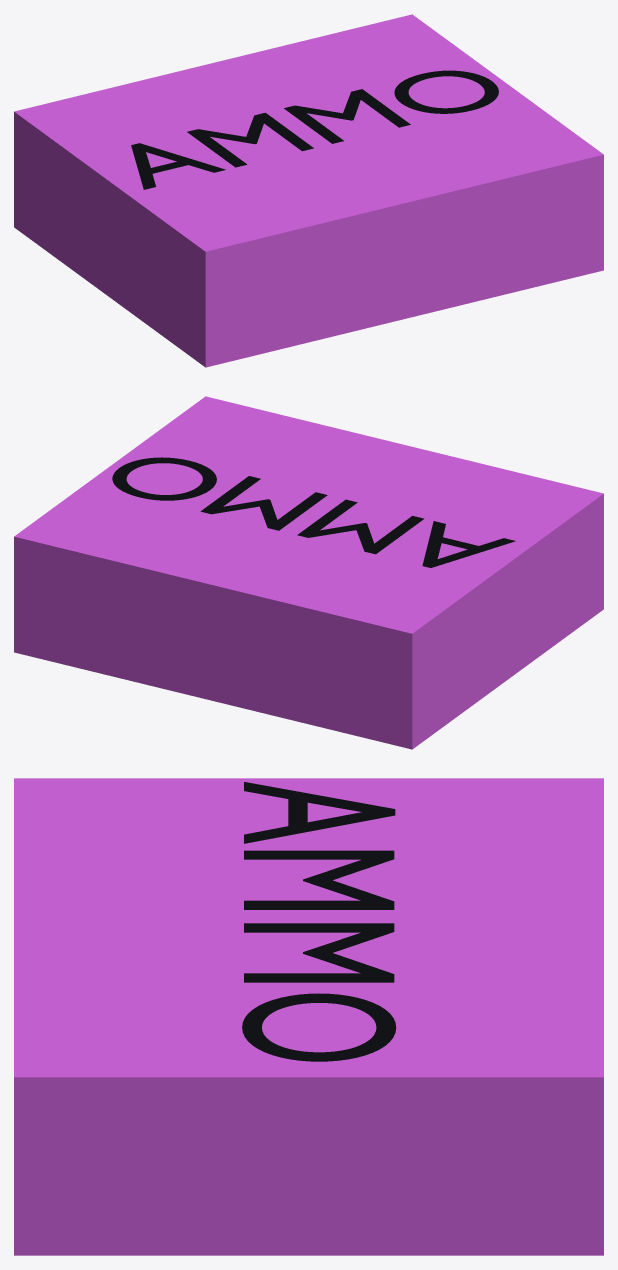
The model's file is cartridges2.fbx.
3 renders of one model, top to bottom at view 1: azimuth 30°, elevation 25°; view 2: azimuth 150°, elevation 25°; view 3: azimuth 270°, elevation 25°, orthographic. The views are drawn at different scales.
Visible parts, largest first — view 1: Cube, Text; view 2: Cube, Text; view 3: Cube, Text.
Boxes of the visible parts, x1,y1,x2,y2 form: Cube: (14,14,603,367); Text: (131,70,498,189); Cube: (14,396,603,749); Text: (112,457,515,567); Cube: (14,778,603,1255); Text: (242,782,396,1061).
Bounding box in the file's own units: 360 × 103 × 300.
